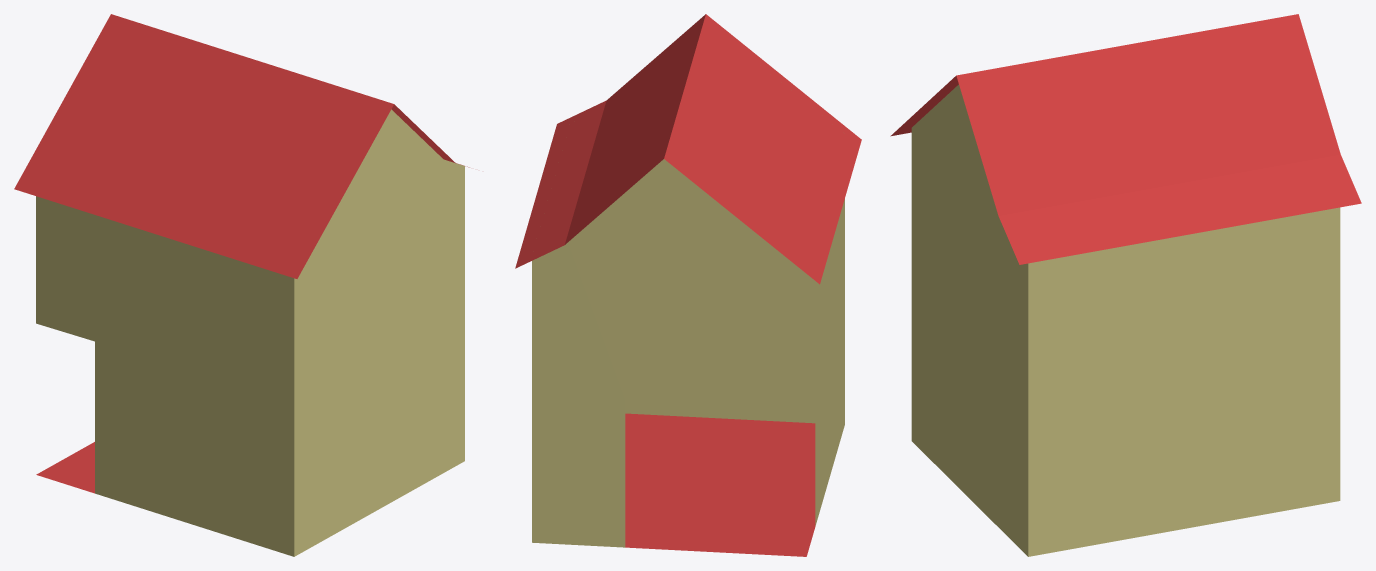
The picture shows the model from 3 angles, left to right: view 1: azimuth 30°, elevation 25°; view 2: azimuth 150°, elevation 25°; view 3: azimuth 270°, elevation 25°; orthographic projection. The views are drawn at different scales.
Bounding box in the file's own units: 13.73 × 14.39 × 14.4.
